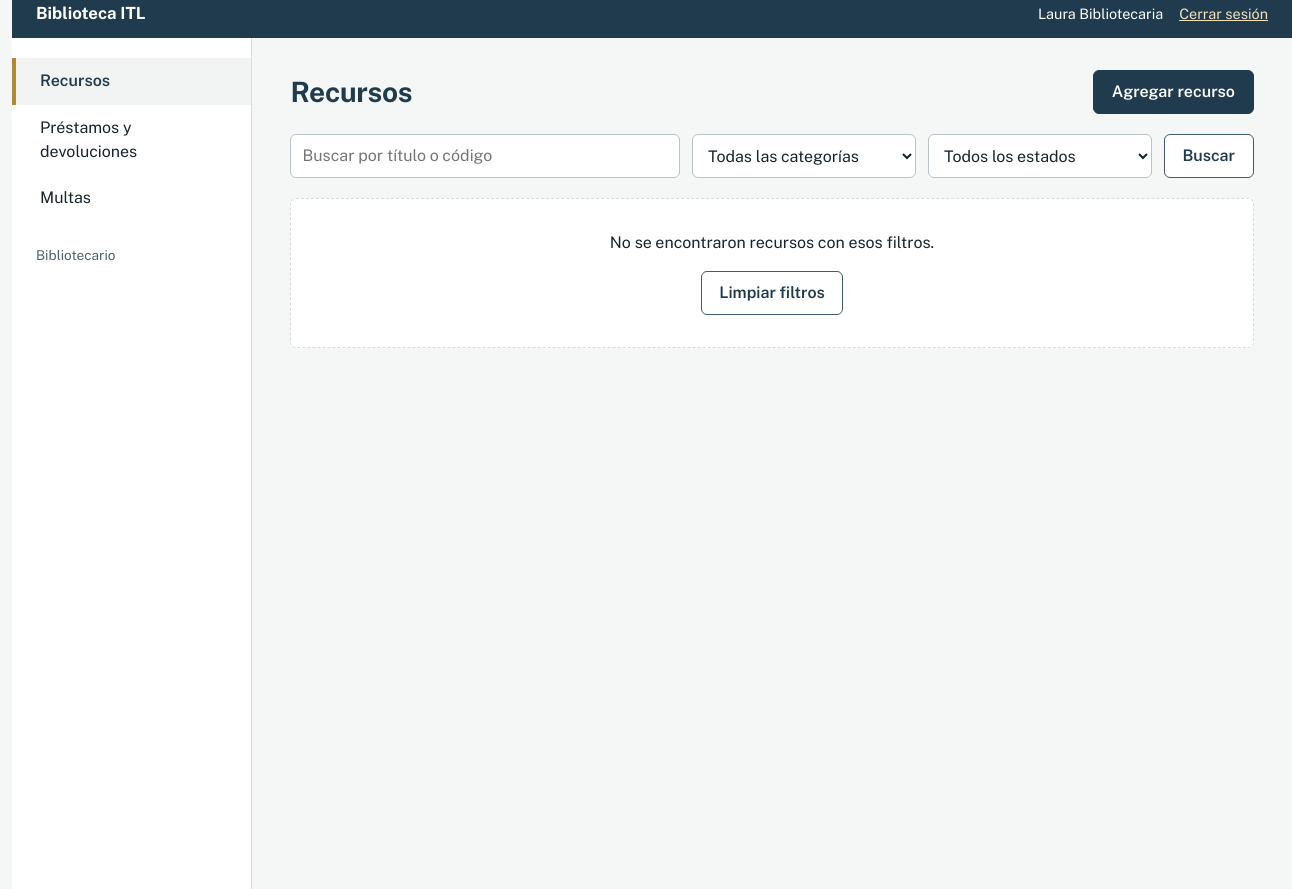
Test: Navegabilidad (mapa de la figura 7.1) › Recursos → Agregar recurso → Cancelar regresa al listado
Step 1. Click the link "Agregar recurso" → (1173, 92), box top-left (1093, 70), bottom-right (1254, 114)
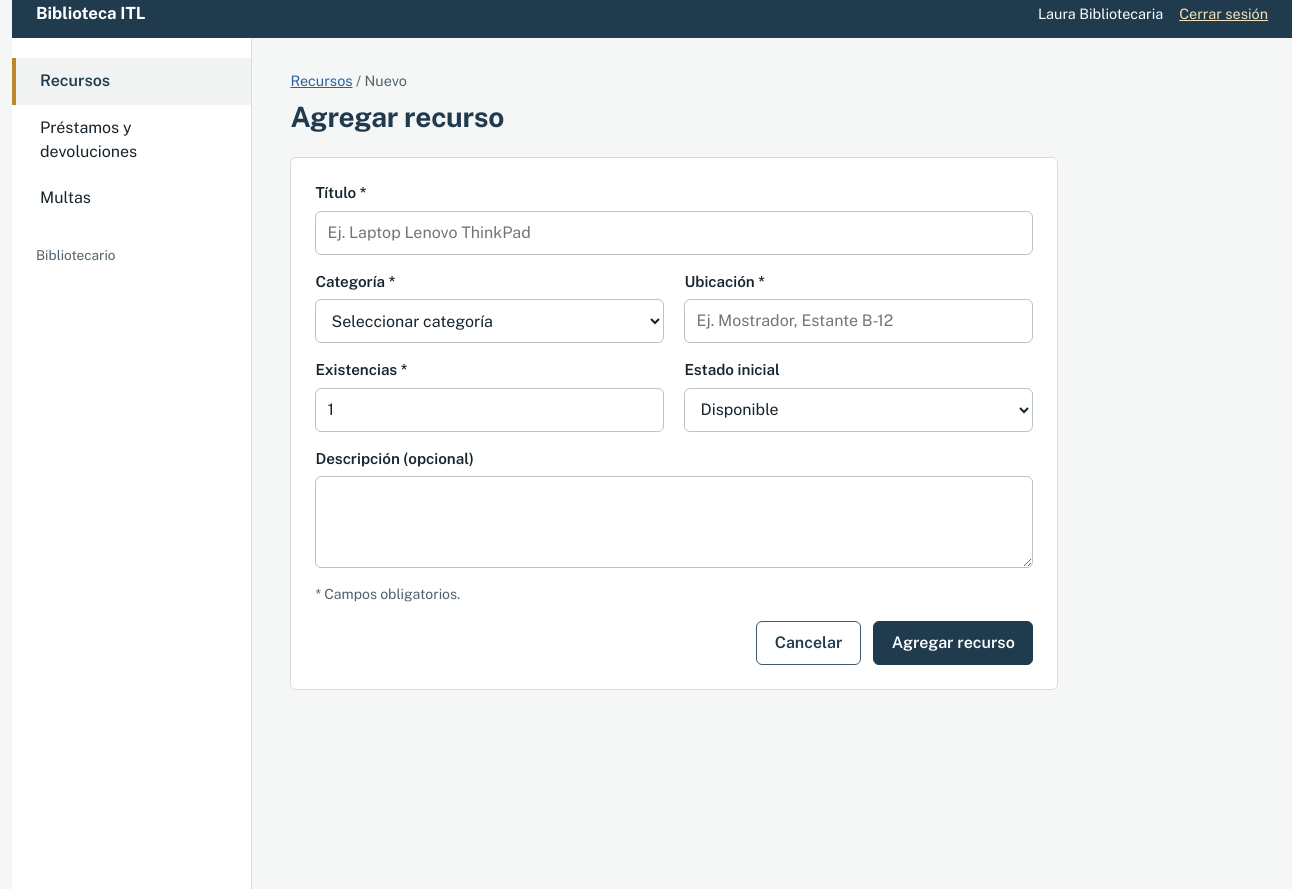
Now the heading "Agregar recurso" is shown, box top-left (290, 100), bottom-right (504, 133)
Step 2. Click the link "Cancelar" → (809, 642), box top-left (756, 620), bottom-right (861, 664)
(page scrolled)
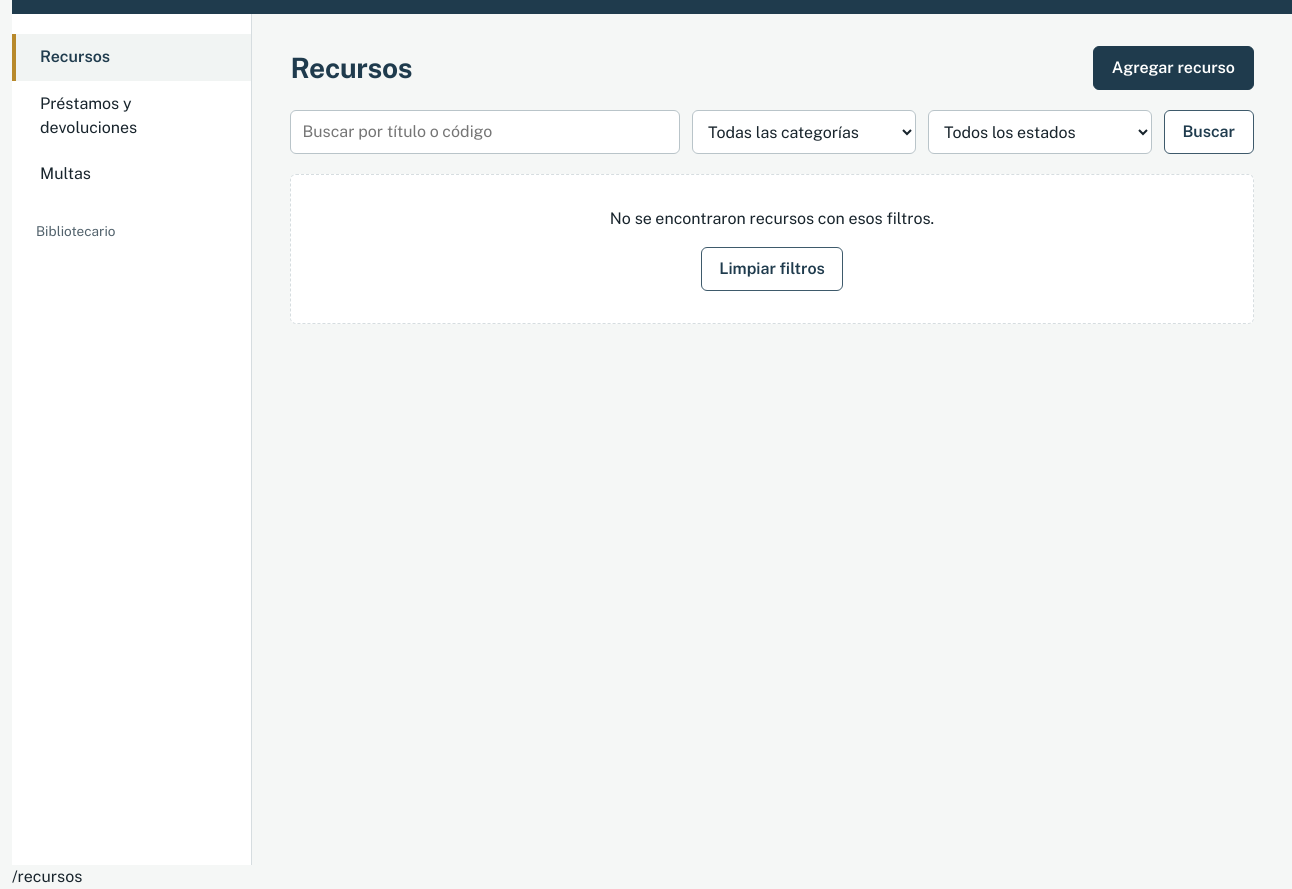
Now the text with test id "ruta" reads "/recursos", box top-left (12, 867), bottom-right (82, 886)
